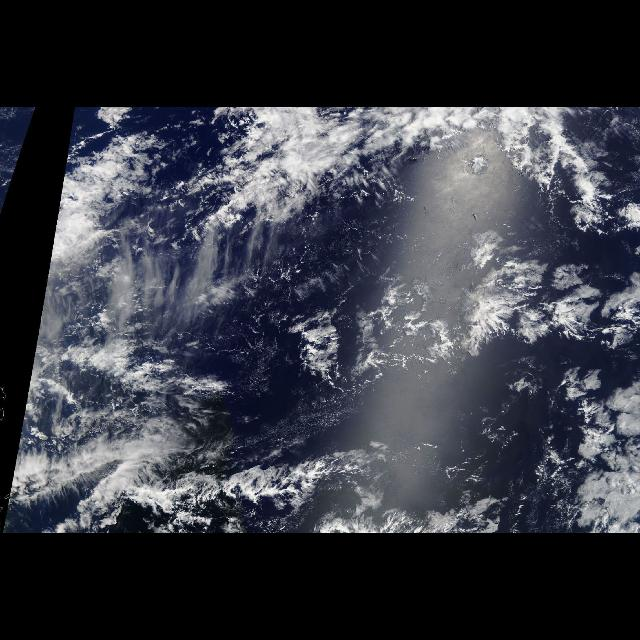Flower: (266, 186, 640, 520)
